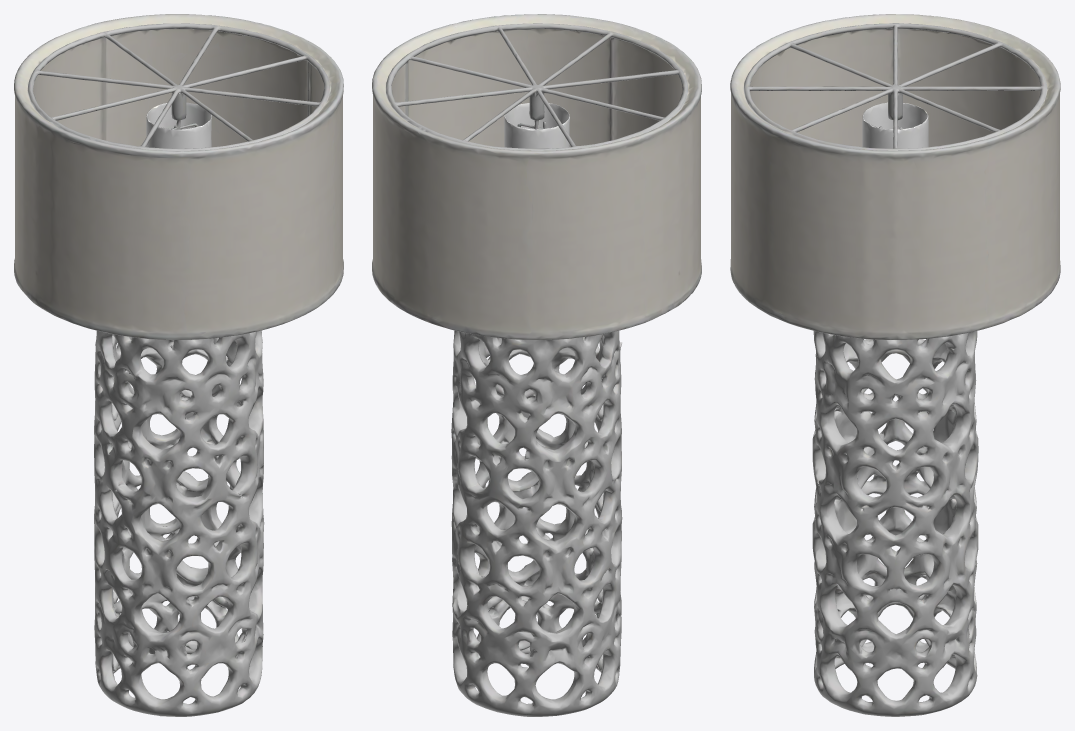
3 views of the same model, side by side, from view 1: azimuth 30°, elevation 25°; view 2: azimuth 150°, elevation 25°; view 3: azimuth 270°, elevation 25° (orthographic).
Parts seen in each view (by area): view 1: geometry_0; view 2: geometry_0; view 3: geometry_0.
Part boxes in pixels (x1=…): geometry_0: x1=14, y1=14, x2=343, y2=716; geometry_0: x1=372, y1=14, x2=701, y2=716; geometry_0: x1=730, y1=14, x2=1060, y2=716.
Bounding box in the file's own units: 0.4979 × 1 × 0.4977.
Materials: 1 (1 with a texture image).
